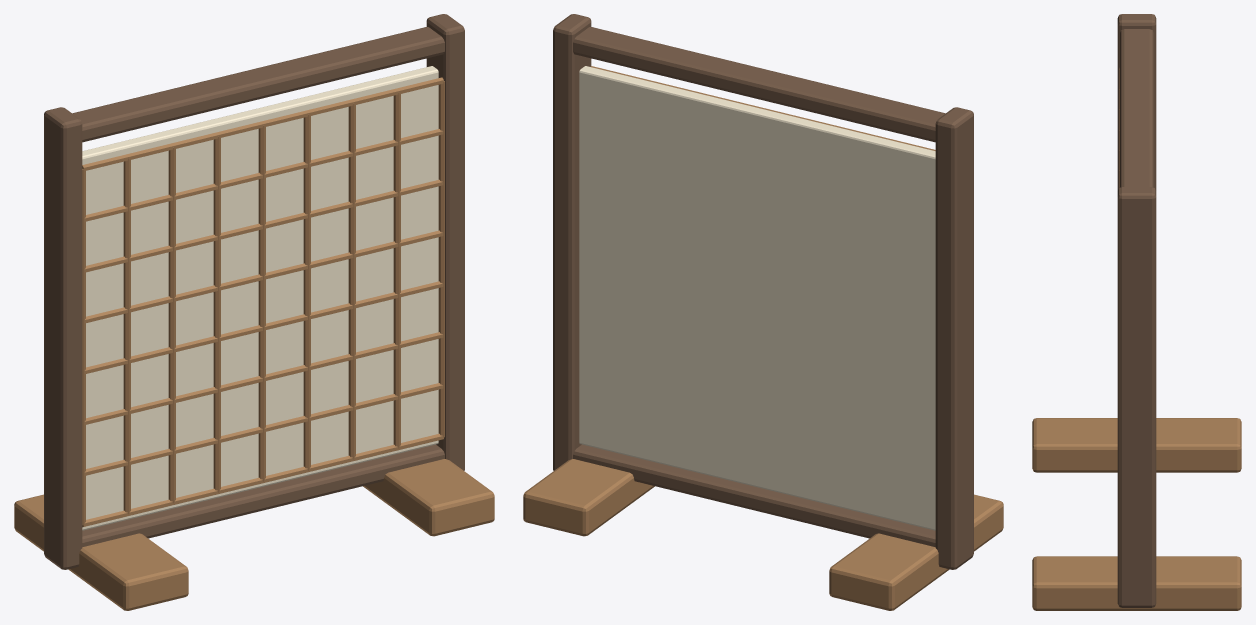
The model's file is woodwork_tsuitate.glb.
The picture shows the model from 3 angles, left to right: view 1: azimuth 30°, elevation 25°; view 2: azimuth 150°, elevation 25°; view 3: azimuth 270°, elevation 25°; orthographic projection. The views are drawn at different scales.
Visible parts, largest first — view 1: Tsuitate white rice-paper screen, Vertical main lacquer post, Screen horizontal rail.001, Vertical main lacquer post.001, Screen horizontal rail, Freestanding screen wooden shoes, Freestanding screen wooden shoes.001, Fine tsuitate screen shoji lattice_v2, Fine tsuitate screen shoji lattice_v4, Fine tsuitate screen shoji lattice_v3, Fine tsuitate screen shoji lattice_v1, Fine tsuitate screen shoji lattice_v5 (+12 smaller); view 2: Tsuitate white rice-paper screen, Vertical main lacquer post, Vertical main lacquer post.001, Screen horizontal rail.001, Screen horizontal rail, Freestanding screen wooden shoes, Freestanding screen wooden shoes.001, Fine tsuitate screen shoji lattice_h7; view 3: Vertical main lacquer post.001, Freestanding screen wooden shoes.001, Freestanding screen wooden shoes, Screen horizontal rail.001, Vertical main lacquer post.
Part boxes in pixels (x1,y1,x2,y2): Tsuitate white rice-paper screen: [82, 66, 438, 530]; Vertical main lacquer post: [44, 107, 82, 569]; Screen horizontal rail.001: [72, 27, 444, 142]; Vertical main lacquer post.001: [426, 14, 464, 470]; Screen horizontal rail: [82, 444, 444, 546]; Freestanding screen wooden shoes: [14, 494, 188, 610]; Freestanding screen wooden shoes.001: [363, 459, 494, 536]; Fine tsuitate screen shoji lattice_v2: [168, 147, 175, 503]; Fine tsuitate screen shoji lattice_v4: [258, 125, 265, 481]; Fine tsuitate screen shoji lattice_v3: [213, 136, 220, 492]; Fine tsuitate screen shoji lattice_v1: [123, 158, 130, 514]; Fine tsuitate screen shoji lattice_v5: [303, 114, 310, 470]; Tsuitate white rice-paper screen: [579, 66, 935, 530]; Vertical main lacquer post: [935, 107, 973, 569]; Vertical main lacquer post.001: [553, 14, 591, 470]; Screen horizontal rail.001: [573, 27, 945, 142]; Screen horizontal rail: [573, 444, 935, 546]; Freestanding screen wooden shoes: [829, 494, 1003, 610]; Freestanding screen wooden shoes.001: [523, 459, 654, 536]; Fine tsuitate screen shoji lattice_h7: [591, 66, 935, 150]; Vertical main lacquer post.001: [1117, 187, 1156, 607]; Freestanding screen wooden shoes.001: [1032, 556, 1241, 610]; Freestanding screen wooden shoes: [1032, 418, 1241, 472]; Screen horizontal rail.001: [1120, 29, 1153, 187]; Vertical main lacquer post: [1117, 14, 1156, 190].
Bounding box in the file's own units: 1.8 × 1.95 × 0.8709.
